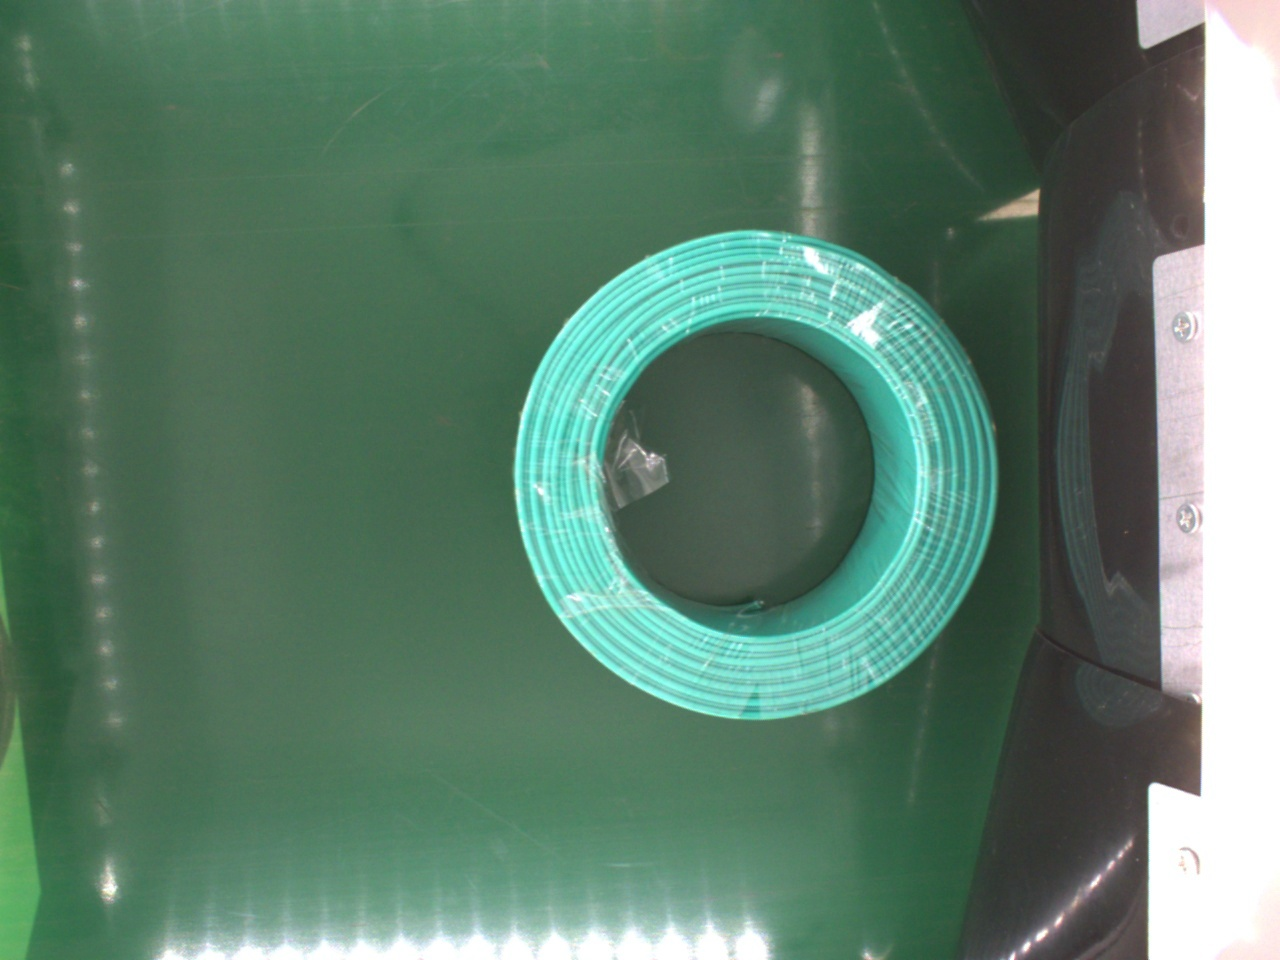green: (504, 233, 998, 723)
